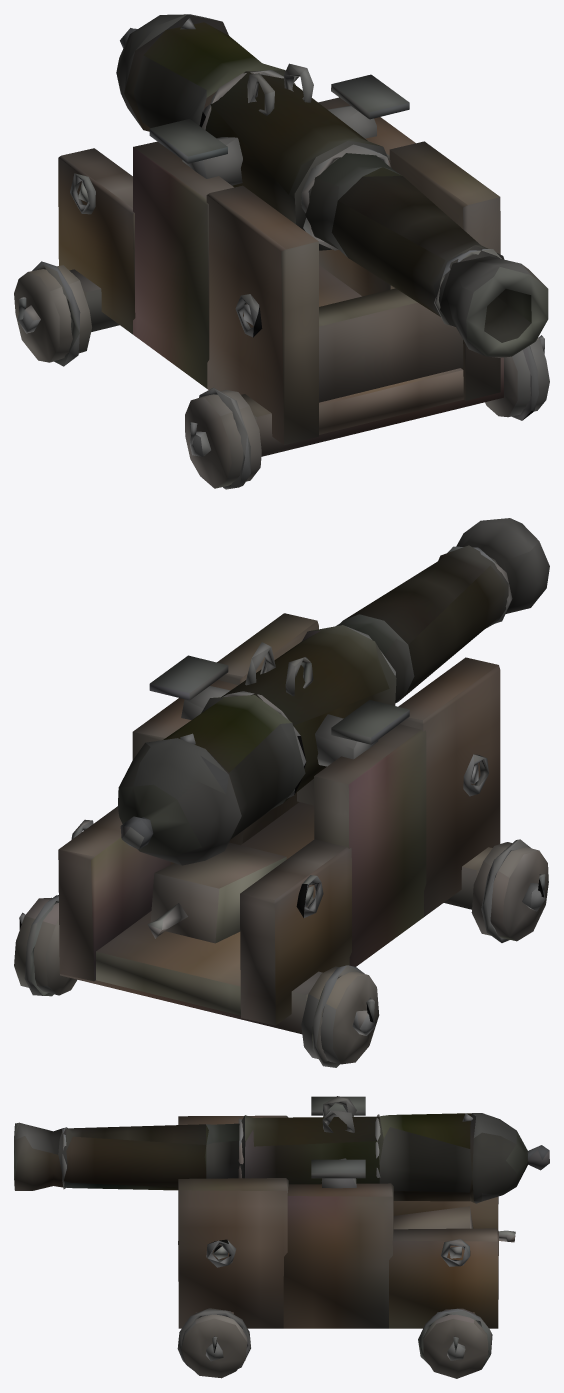
File: cannon_far.glb
3 views of the same model, one above another, from view 1: azimuth 30°, elevation 25°; view 2: azimuth 150°, elevation 25°; view 3: azimuth 270°, elevation 25° (orthographic). The views are drawn at different scales.
Parts seen in each view (by area): view 1: cannon_body, barrel; view 2: cannon_body, barrel; view 3: cannon_body, barrel.
Part boxes in pixels (x1,y1,x2,y2): cannon_body: (14,74,549,489); barrel: (116,14,548,357); cannon_body: (14,613,548,1067); barrel: (117,518,549,865); cannon_body: (177,1096,515,1378); barrel: (14,1096,549,1203).
Bounding box in the file's own units: 0.9388 × 0.8048 × 1.73.
Materials: 1 (1 with a texture image).
